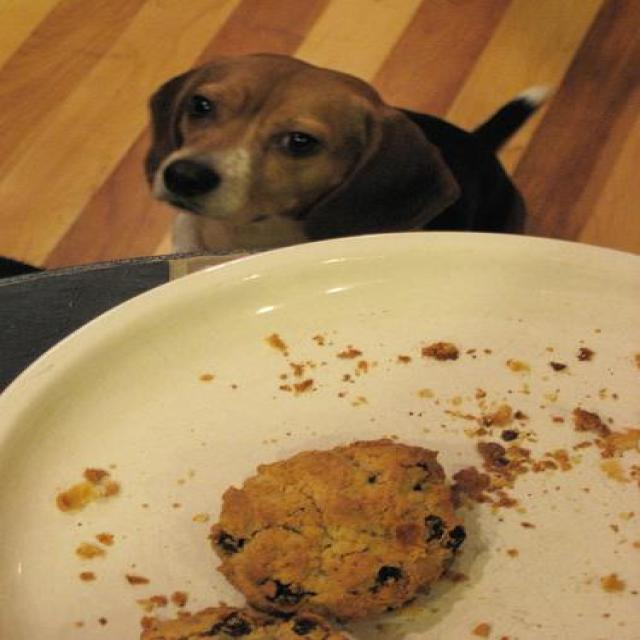beagle: (138, 48, 563, 258)
